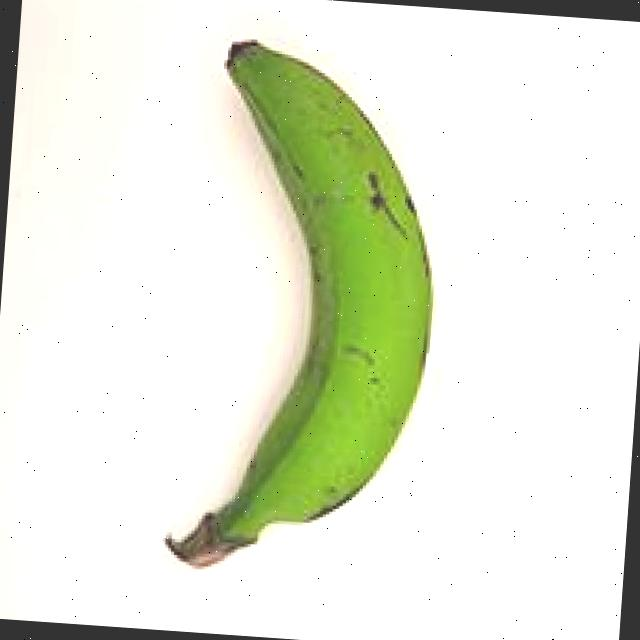Raw: (95, 7, 492, 613)
